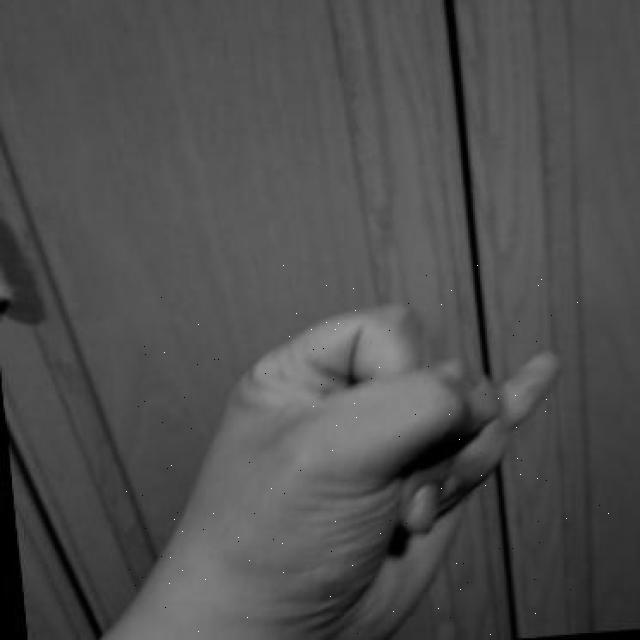J: (126, 264, 610, 638)
